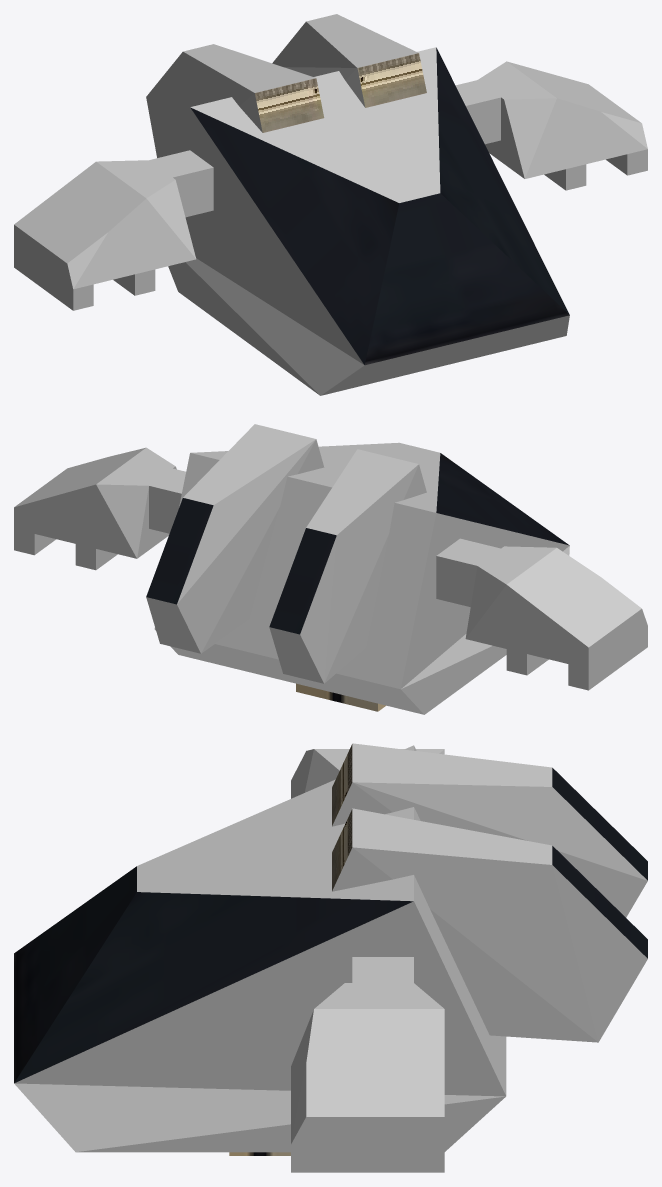
3 views of the same model, one above another, from view 1: azimuth 30°, elevation 25°; view 2: azimuth 150°, elevation 25°; view 3: azimuth 270°, elevation 25° (orthographic). The views are drawn at different scales.
Parts seen in each view (by area): view 1: entity0_brush0, entity0_brush1, entity0_brush5, entity0_brush2, entity0_brush14, entity0_brush6, entity0_brush7, entity0_brush4, entity0_brush8, entity0_brush9, entity0_brush11, entity0_brush10 (+2 smaller); view 2: entity0_brush0, entity0_brush14, entity0_brush2, entity0_brush5, entity0_brush1, entity0_brush7, entity0_brush6, entity0_brush4, entity0_brush8, entity0_brush11, entity0_brush9, entity0_brush3 (+3 smaller); view 3: entity0_brush0, entity0_brush14, entity0_brush2, entity0_brush7, entity0_brush1, entity0_brush13, entity0_brush6, entity0_brush9, entity0_brush4.
Boxes of the visible parts, x1,y1,x2,y2 form: entity0_brush0: (177,47,569,365); entity0_brush1: (168,258,569,395); entity0_brush5: (14,162,155,289); entity0_brush2: (146,44,324,157); entity0_brush14: (272,14,426,107); entity0_brush6: (478,61,565,178); entity0_brush7: (507,61,647,168); entity0_brush4: (96,160,196,269); entity0_brush8: (149,150,213,217); entity0_brush9: (455,80,500,144); entity0_brush11: (14,246,93,310); entity0_brush10: (113,269,155,295); entity0_brush0: (154,442,569,689); entity0_brush14: (146,424,324,653); entity0_brush2: (269,449,426,683); entity0_brush5: (506,548,647,668); entity0_brush1: (155,546,569,714); entity0_brush7: (14,447,145,548); entity0_brush6: (96,447,176,558); entity0_brush4: (465,546,556,648); entity0_brush8: (436,538,500,606); entity0_brush11: (568,626,647,690); entity0_brush9: (149,468,185,533); entity0_brush3: (296,683,385,711); entity0_brush0: (14,745,506,1096); entity0_brush14: (332,808,647,1042); entity0_brush2: (332,743,647,917); entity0_brush7: (291,1009,444,1144); entity0_brush1: (14,1083,505,1152); entity0_brush13: (291,1144,444,1172); entity0_brush6: (291,983,443,1091); entity0_brush9: (352,957,413,982); entity0_brush4: (301,749,444,793).
Bounding box in the file's own units: 224 × 96 × 165.
